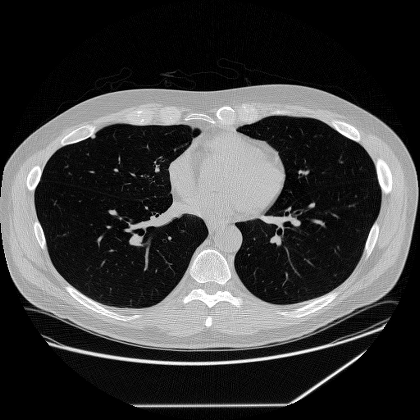nodule: (91, 134, 95, 138)
